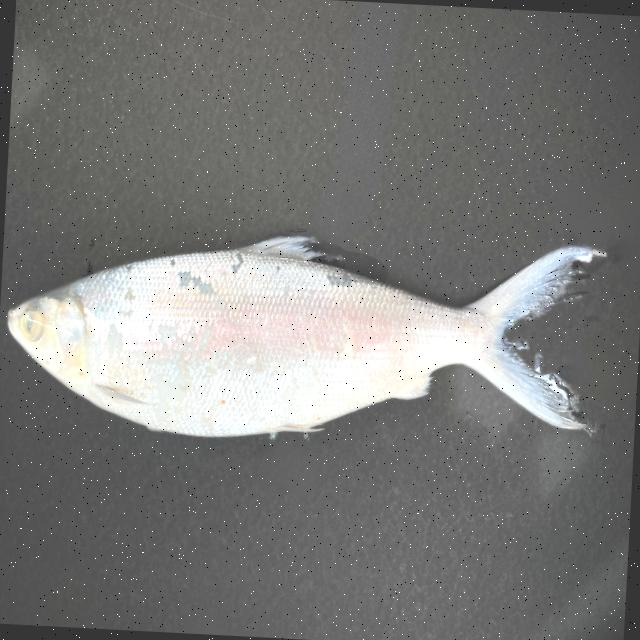985 g: (2, 215, 606, 458)
